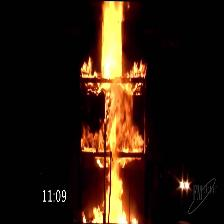fire: (95, 0, 137, 224)
